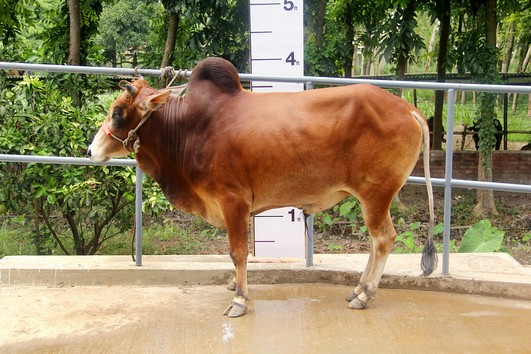cow: (84, 53, 446, 322)
